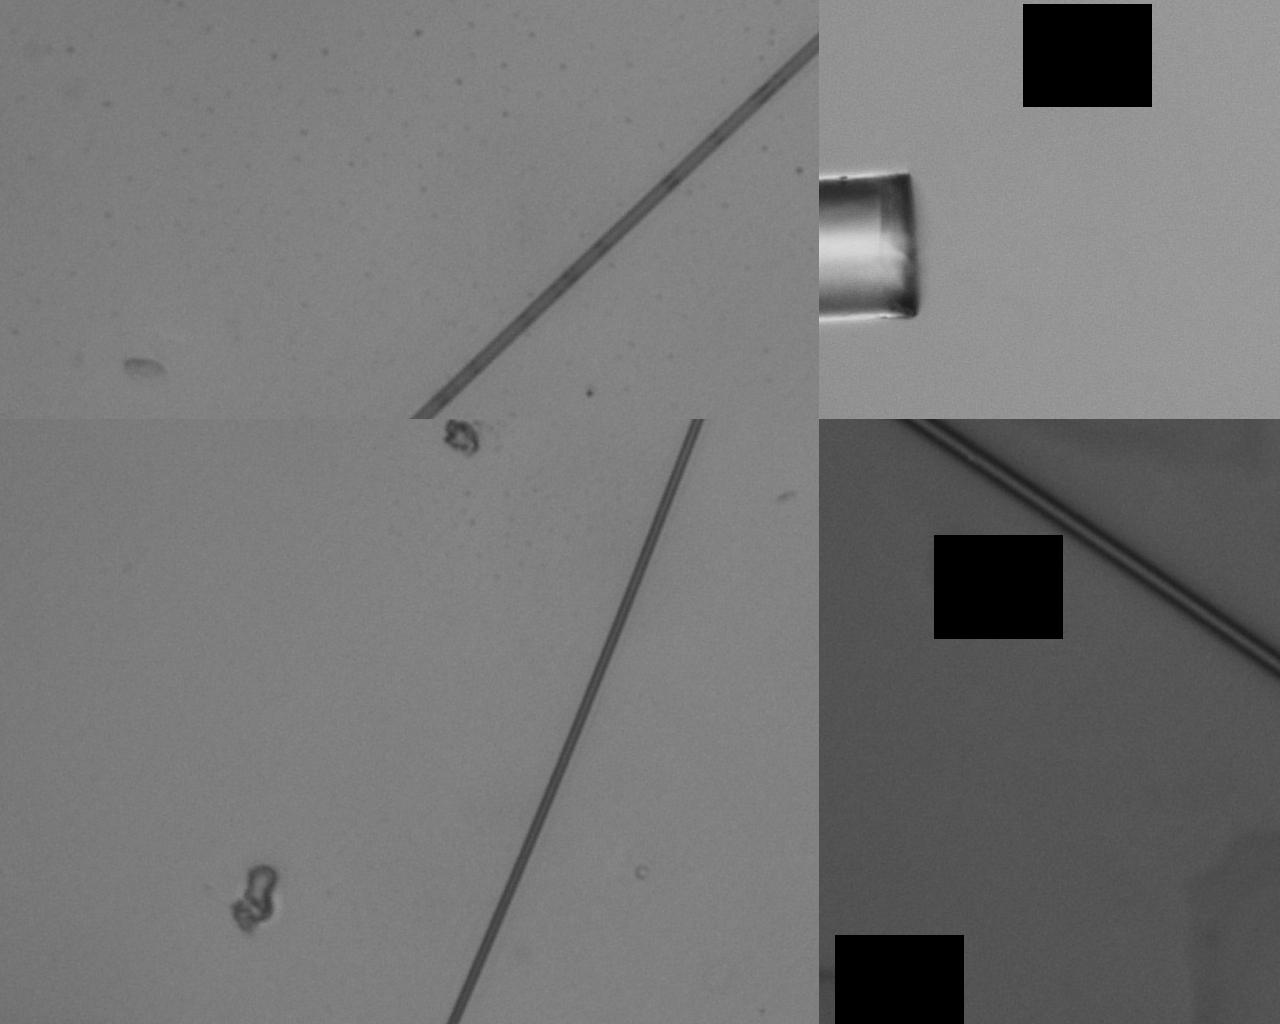fiber: (222, 0, 704, 210), (998, 491, 1173, 1024), (576, 491, 704, 1024)
